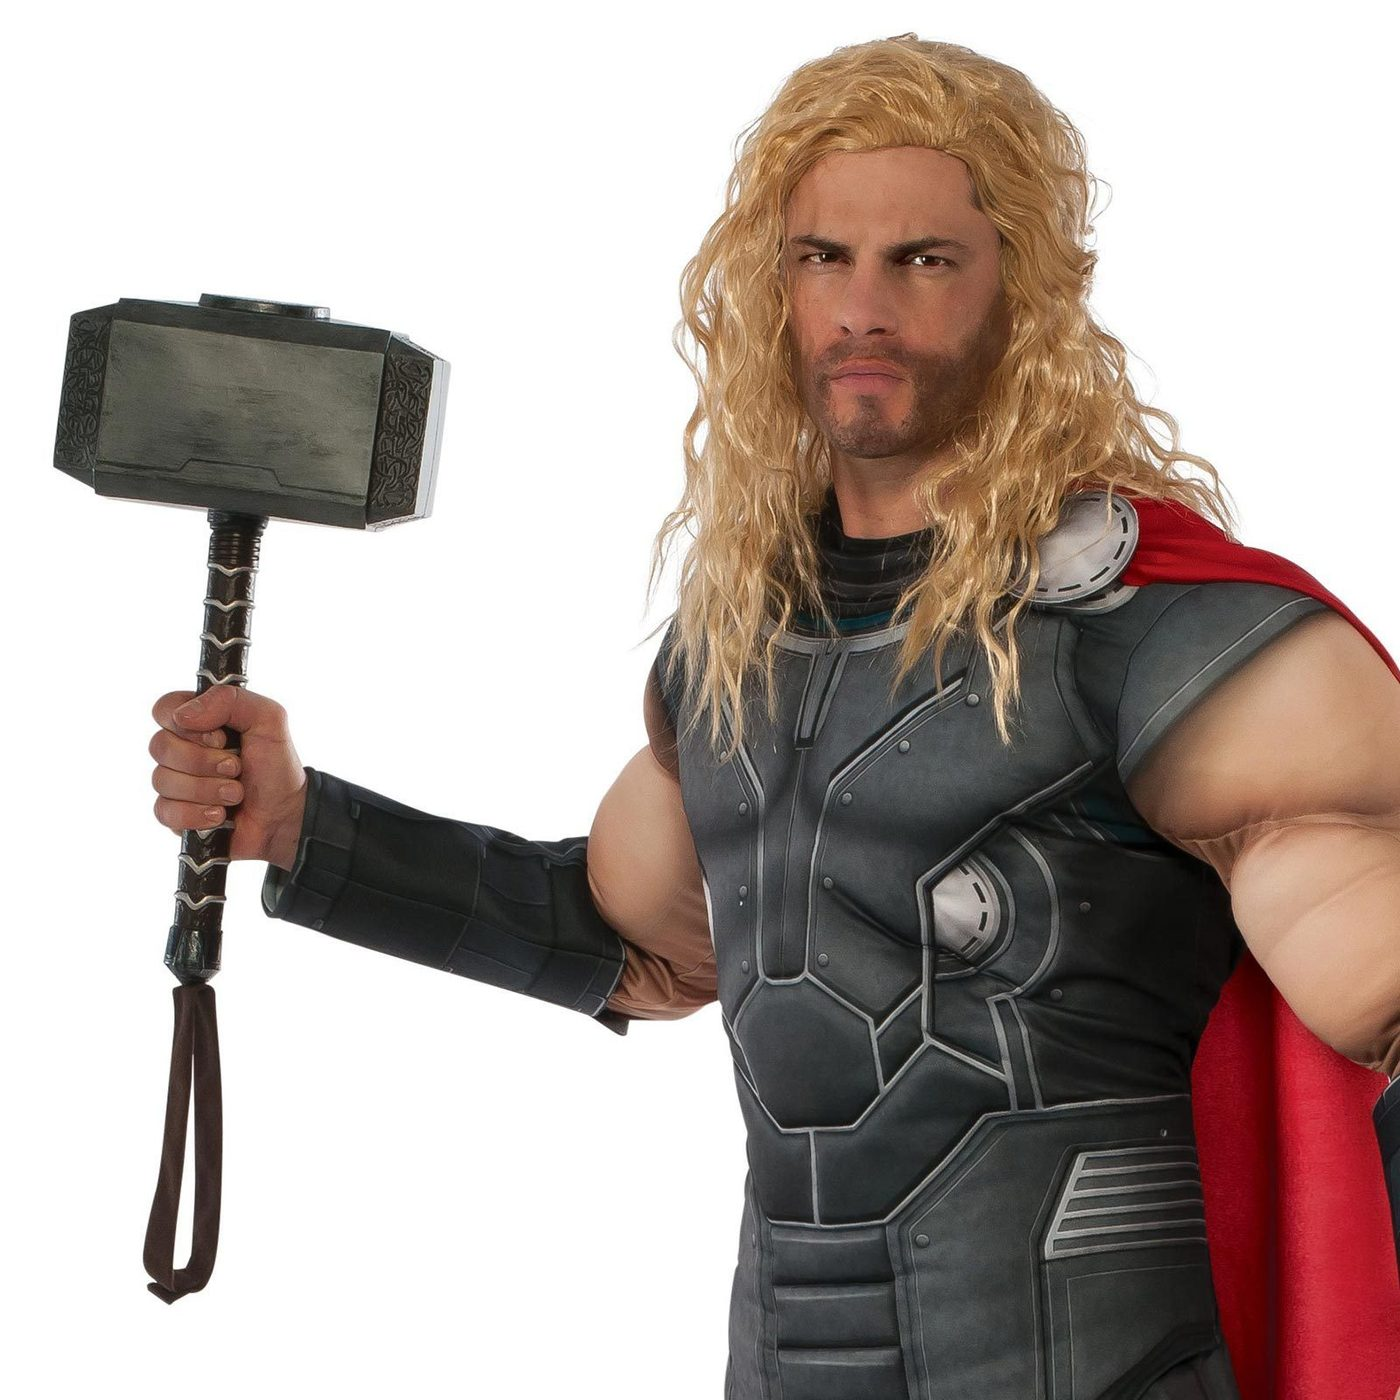THOR Hammer: (56, 269, 453, 1017)
